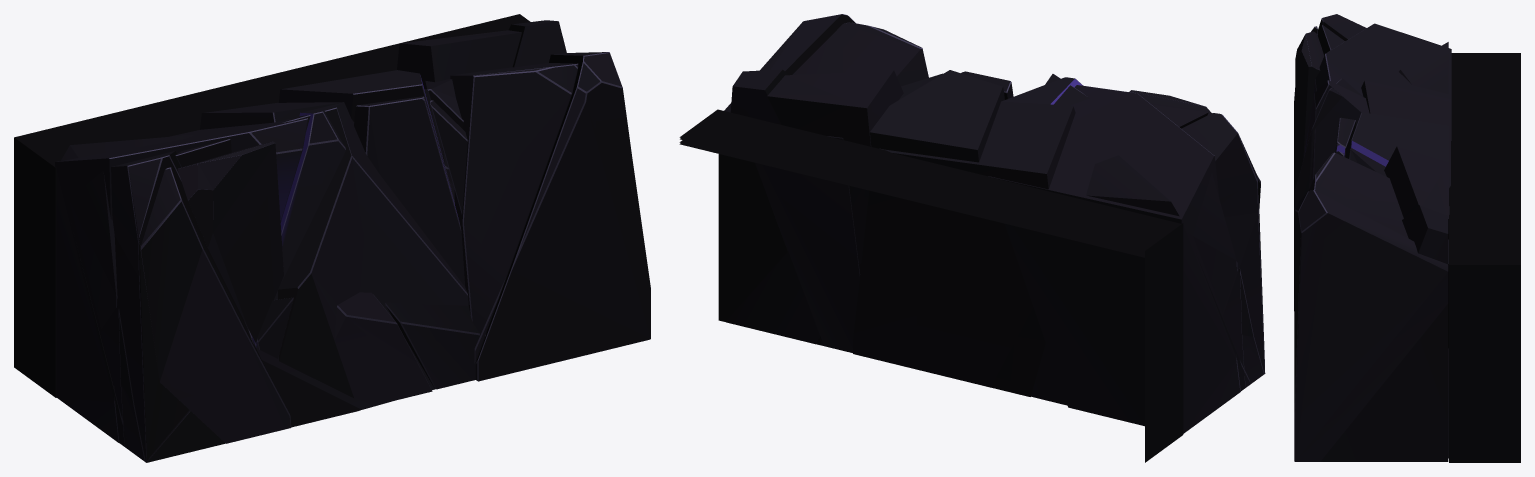
File: cliff-kit.glb
3 renders of one model, left to right at view 1: azimuth 30°, elevation 25°; view 2: azimuth 150°, elevation 25°; view 3: azimuth 270°, elevation 25°, orthographic. The views are drawn at different scales.
Visible parts, largest first — view 1: void_wall_1, void_wall_0, void_wall_2, void_wall_3; view 2: void_wall_1, void_wall_2, void_wall_3, void_wall_0; view 3: void_wall_1, void_wall_3, void_wall_0, void_wall_2.
Boxes of the visible parts, x1,y1,x2,y2 form: void_wall_1: [14, 52, 650, 461]; void_wall_0: [14, 70, 467, 462]; void_wall_2: [14, 102, 468, 442]; void_wall_3: [14, 14, 566, 449]; void_wall_1: [679, 14, 1264, 461]; void_wall_2: [679, 77, 1240, 459]; void_wall_3: [679, 69, 1249, 461]; void_wall_0: [680, 70, 1265, 462]; void_wall_1: [1294, 14, 1520, 461]; void_wall_3: [1384, 42, 1520, 462]; void_wall_0: [1294, 78, 1520, 462]; void_wall_2: [1304, 23, 1520, 462].
Size of the model in its own units: 2.1 by 1.15 by 0.948.
